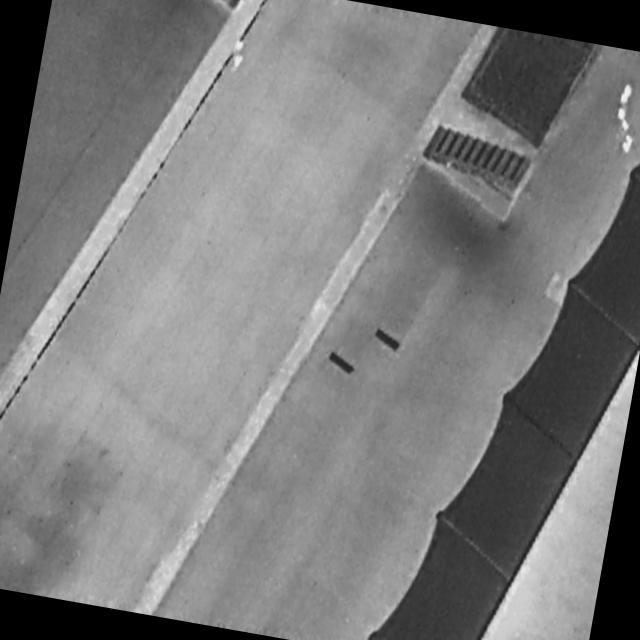person: (230, 38, 249, 72)
